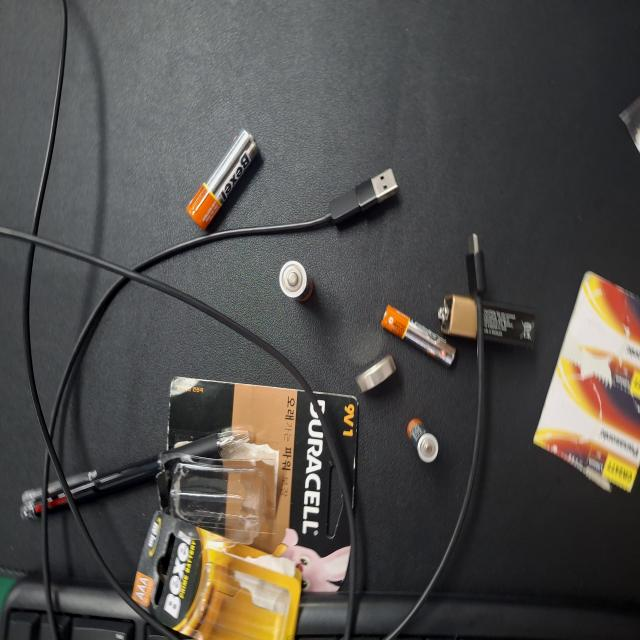9V: (222, 137, 262, 267)
AA: (98, 506, 174, 606), (195, 436, 228, 481)
AAA: (228, 246, 274, 340), (313, 270, 347, 314)
COIN: (266, 325, 294, 374)
